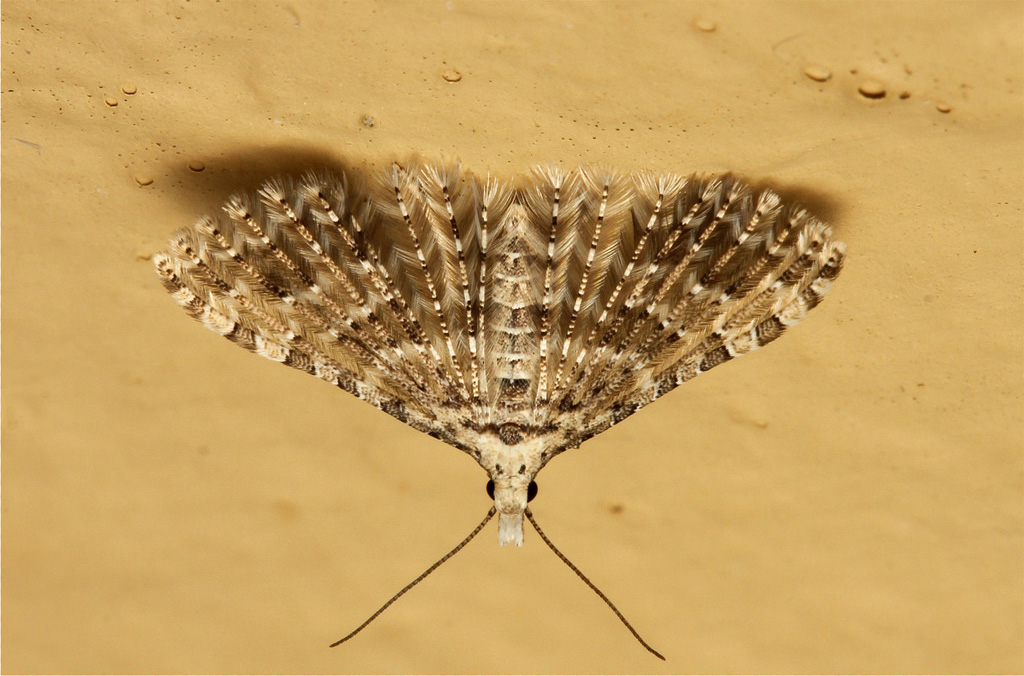Alucitidae: (143, 152, 870, 667)
moth: (145, 154, 872, 669)
